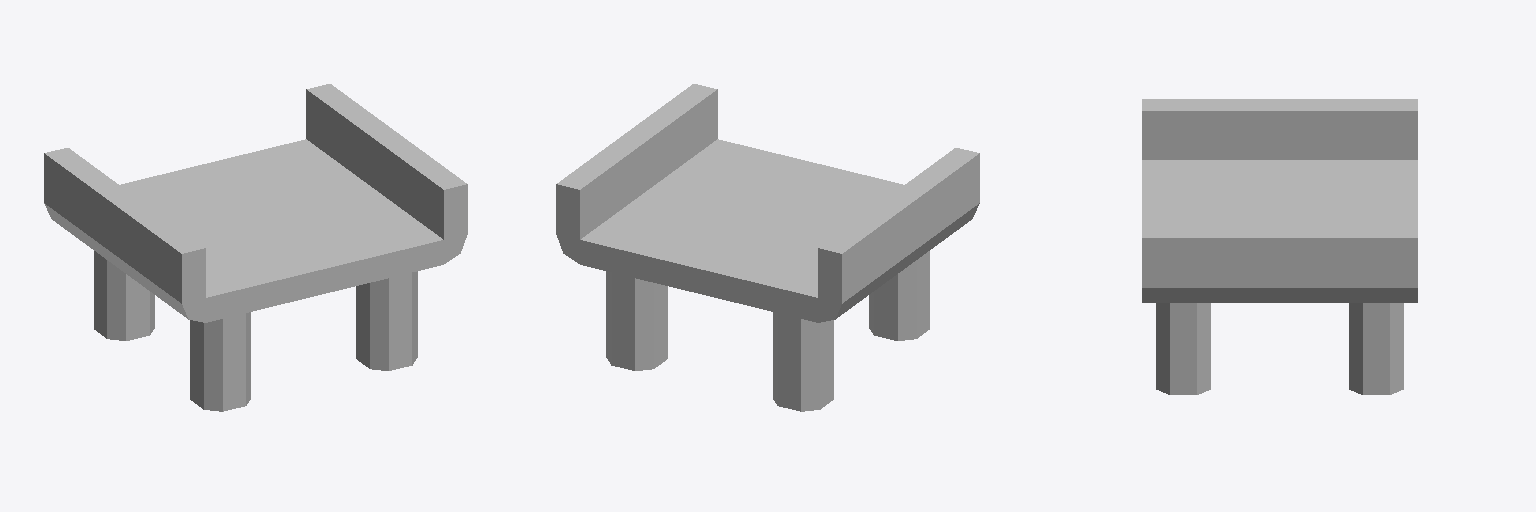
The model's file is support-color-four-top.obj.
The picture shows the model from 3 angles: view 1: azimuth 30°, elevation 25°; view 2: azimuth 150°, elevation 25°; view 3: azimuth 270°, elevation 25°; orthographic projection.
Parts seen in each view (by area): view 1: support-color-four-top; view 2: support-color-four-top; view 3: support-color-four-top.
Part boxes in pixels (bbox=[...]): support-color-four-top: bbox=[44, 84, 467, 411]; support-color-four-top: bbox=[556, 84, 979, 411]; support-color-four-top: bbox=[1142, 99, 1417, 394].
Bounding box in the file's own units: 1.2 × 0.7 × 1.